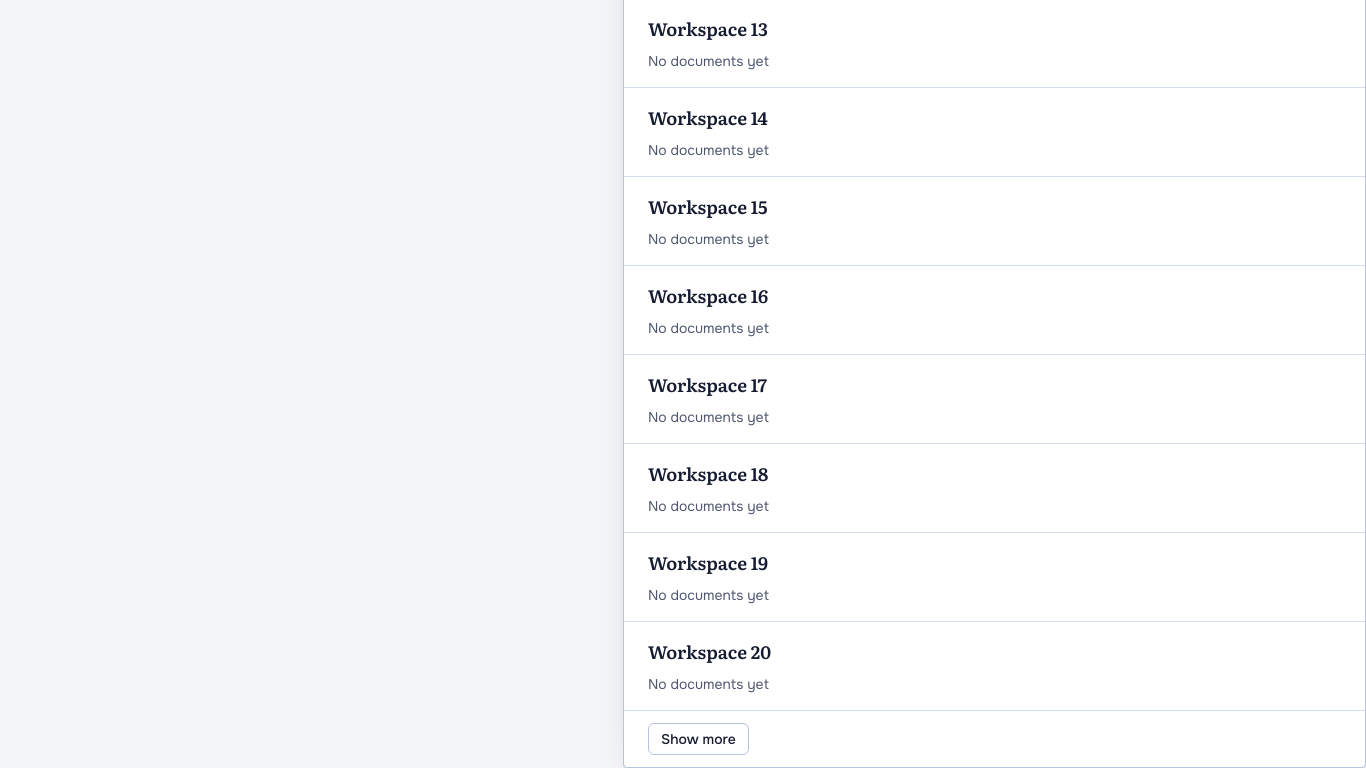
WorkspaceList › loads the next page on Show more and moves focus to the first new workspace
(page scrolled)
Click the button "Show more".
click(698, 739)  # box left=648, top=723, right=749, bottom=755
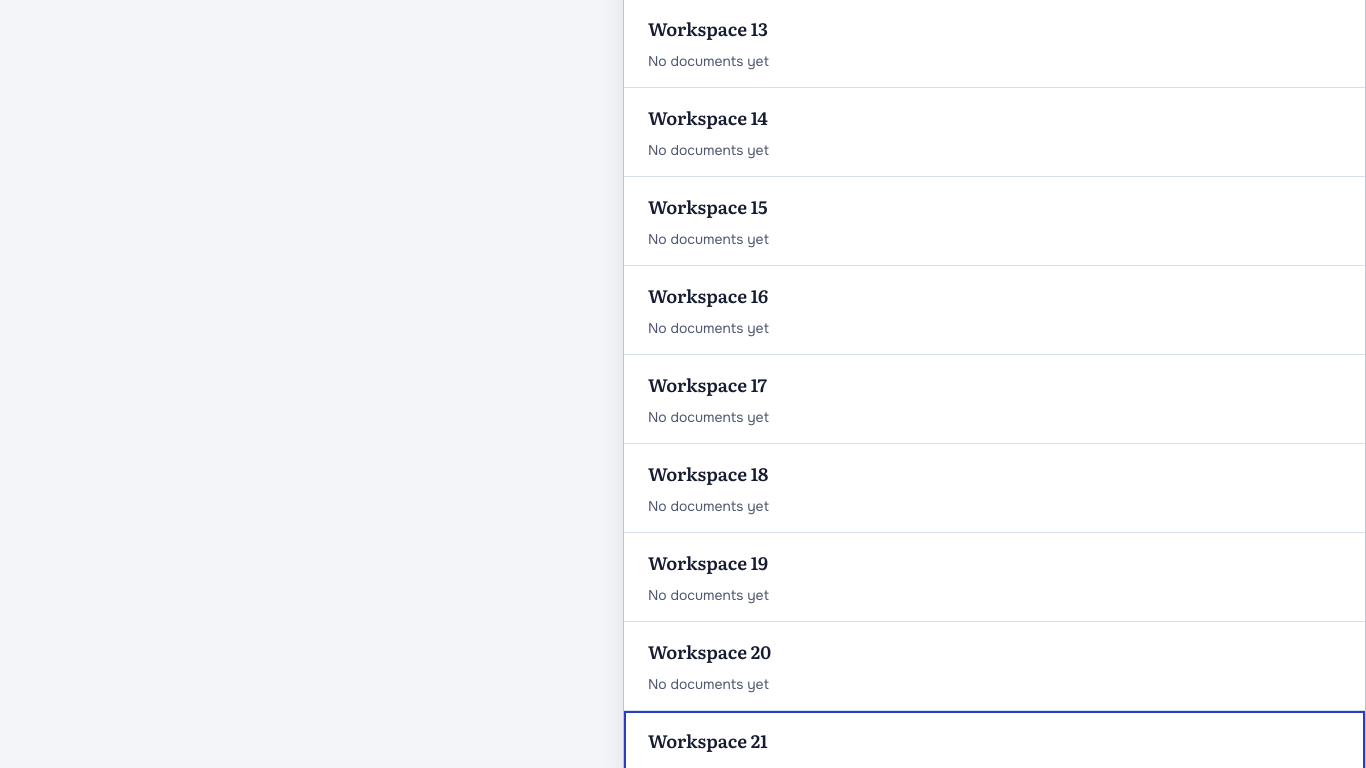
Expected: the button "Show more" is gone
